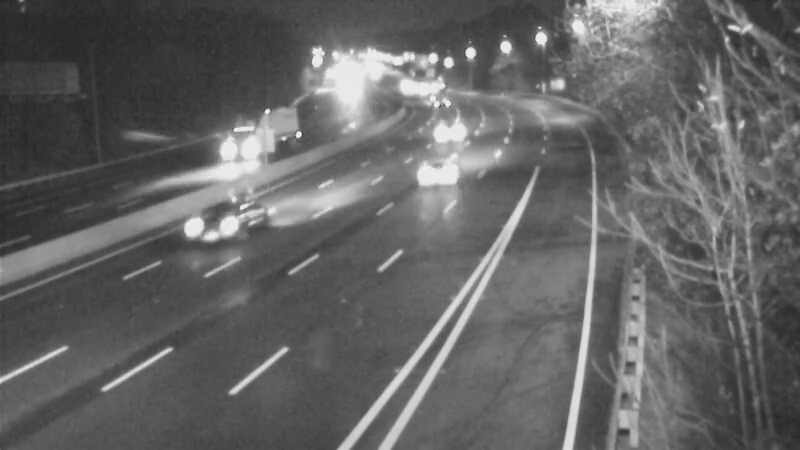vehicle: (411, 131, 491, 211), (173, 184, 253, 264), (190, 116, 270, 196), (428, 106, 478, 156)
